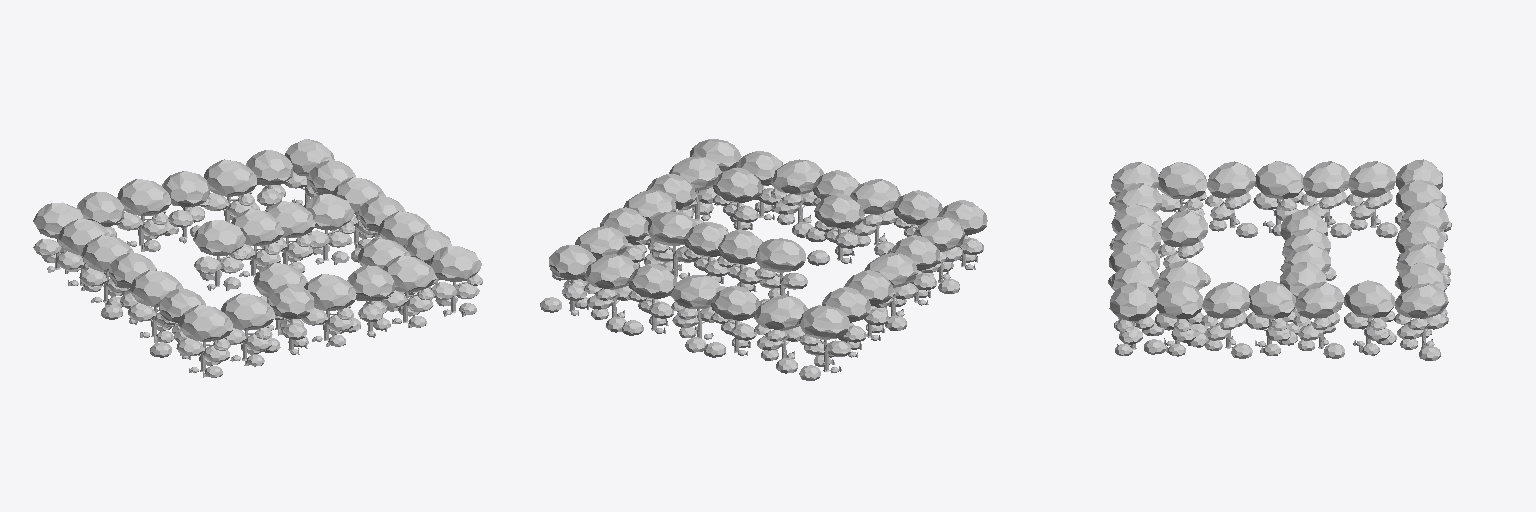
Rendered from tree-all.obj.
3 views of the same model, side by side, from view 1: azimuth 30°, elevation 25°; view 2: azimuth 150°, elevation 25°; view 3: azimuth 270°, elevation 25° (orthographic).
Parts seen in each view (by area): view 1: Platonic_9, Platonic_28, Platonic_25, Platonic_8, Platonic_29, Platonic_11, Platonic_5, Platonic_6, Platonic_12, Platonic_26, Platonic_3, Platonic_7 (+18 smaller); view 2: Platonic_29, Platonic_24, Platonic_27, Platonic_22, Platonic_4, Platonic, Platonic_1, Platonic_26, Platonic_28, Platonic_25, Platonic_7, Platonic_3 (+18 smaller); view 3: Platonic_10, Platonic_20, Platonic_21, Platonic_15, Platonic_17, Platonic_11, Platonic_16, Platonic_18, Platonic_14, Platonic, Platonic_23, Platonic_13 (+18 smaller).
Part boxes in pixels (x1,y1,x2,y2): Platonic_9: (179,305,232,341); Platonic_28: (117,179,170,215); Platonic_25: (204,159,256,196); Platonic_8: (221,293,274,330); Platonic_29: (193,220,245,255); Platonic_11: (429,246,481,281); Platonic_5: (304,274,356,310); Platonic_6: (383,256,435,292); Platonic_12: (231,209,283,245); Platonic_26: (162,171,209,206); Platonic_3: (304,194,354,229); Platonic_7: (267,284,314,319); Platonic_29: (755,238,805,272); Platonic_24: (799,305,849,339); Platonic_27: (754,295,807,330); Platonic_22: (584,254,637,289); Platonic_4: (770,159,823,194); Platonic: (814,193,863,228); Platonic_1: (713,167,761,202); Platonic_26: (670,275,722,308); Platonic_28: (711,285,759,320); Platonic_25: (628,264,676,298); Platonic_7: (850,179,900,214); Platonic_3: (648,212,696,245); Platonic_10: (1158,162,1207,199); Platonic_20: (1344,280,1394,317); Platonic_21: (1395,283,1448,318); Platonic_15: (1155,281,1203,318); Platonic_17: (1254,161,1303,198); Platonic_11: (1109,283,1156,320); Platonic_16: (1249,281,1295,318); Platonic_18: (1295,282,1343,318); Platonic_14: (1207,161,1255,198); Platonic: (1160,210,1207,247); Platonic_23: (1348,161,1396,197); Platonic_13: (1202,282,1250,318).
Bounding box in the file's own units: 76.12 × 15.52 × 74.71.